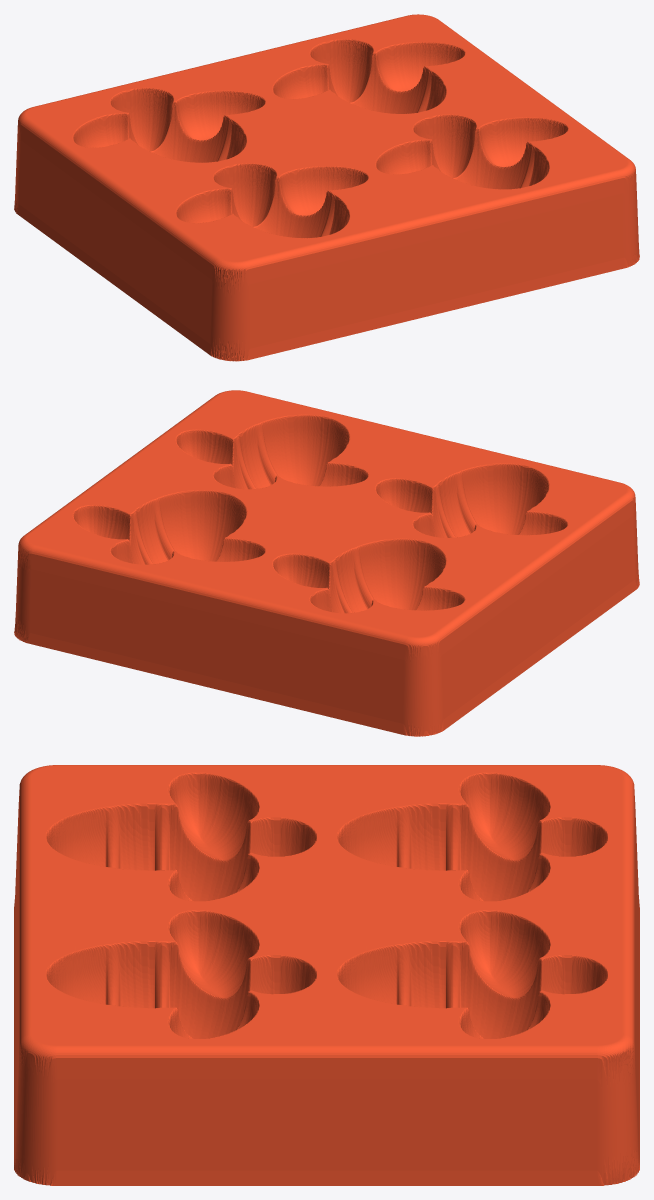
File: mold.glb
3 views of the same model, one above another, from view 1: azimuth 30°, elevation 25°; view 2: azimuth 150°, elevation 25°; view 3: azimuth 270°, elevation 25° (orthographic). The views are drawn at different scales.
Parts seen in each view (by area): view 1: geometry_0; view 2: geometry_0; view 3: geometry_0.
Part boxes in pixels (x1,y1,x2,y2): geometry_0: (14, 14, 639, 361); geometry_0: (14, 390, 639, 736); geometry_0: (14, 765, 639, 1185).
Size of the model in its own units: 0.1466 by 0.031 by 0.132.
